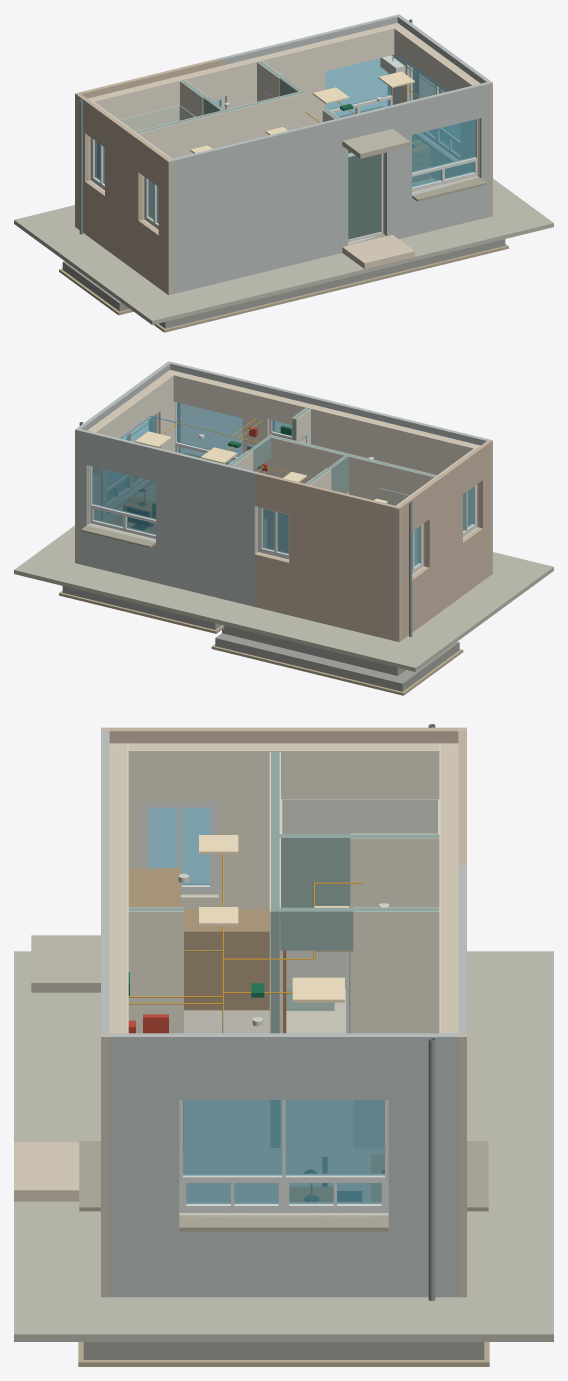
File: sample-1-open.glb
The picture shows the model from 3 angles, top to bottom: view 1: azimuth 30°, elevation 25°; view 2: azimuth 150°, elevation 25°; view 3: azimuth 270°, elevation 25°; orthographic projection. The views are drawn at different scales.
Visible parts, largest first — view 1: 외벽 마감 (×17), 외부 포장 폭 1000, 실내 벽 마감 (×8), 창문 (×3), 칸막이 마감 (×3), 창호 프레임 (×4), 출입문, 줄기초 800×300, 출입구 단차, 버림콘크리트 60, 외벽 모서리 마감 (×2), 출입구 캐노피 (+8 smaller); view 2: 외벽 마감 (×17), 외부 포장 폭 1000, 실내 벽 마감 (×7), 창문 (×4), 칸막이 마감 (×2), PIT 매트 기초, 창호 프레임 (×5), 외벽 모서리 마감 (×2), PIT 벽 200, PIT 버림콘크리트, 줄기초 800×300, 외벽 (+7 smaller); view 3: 외부 포장 폭 1000, 외벽 마감 (×10), 칸막이 마감 (×3), 창문 (×2), 실내 벽 마감 (×4), 실내 바닥 마감, 창호 프레임 (×2), 외벽 (×4), 택배 보관장 측면, 줄기초 800×300 (×2), 화장실 타일 마감, 외부 창대석 T50×W350 (×3) (+14 smaller).
Boxes of the visible parts, left/top/right/bottom form: 외벽 마감 (×17): left=77, top=17, right=489, bottom=294; 외부 포장 폭 1000: left=14, top=178, right=553, bottom=324; 실내 벽 마감 (×8): left=92, top=25, right=479, bottom=179; 창문 (×3): left=325, top=58, right=475, bottom=187; 칸막이 마감 (×3): left=138, top=62, right=304, bottom=210; 창호 프레임 (×4): left=90, top=66, right=477, bottom=229; 출입문: left=348, top=154, right=380, bottom=239; 줄기초 800×300: left=159, top=239, right=505, bottom=328; 출입구 단차: left=342, top=235, right=414, bottom=268; 버림콘크리트 60: left=154, top=244, right=508, bottom=332; 외벽 모서리 마감 (×2): left=166, top=81, right=492, bottom=295; 출입구 캐노피: left=342, top=128, right=410, bottom=158; 외벽 마감 (×17): left=78, top=364, right=490, bottom=641; 외부 포장 폭 1000: left=14, top=525, right=553, bottom=671; 실내 벽 마감 (×7): left=88, top=372, right=475, bottom=525; 창문 (×4): left=92, top=402, right=288, bottom=553; 칸막이 마감 (×2): left=267, top=409, right=434, bottom=552; PIT 매트 기초: left=215, top=633, right=459, bottom=691; 창호 프레임 (×5): left=90, top=413, right=477, bottom=574; 외벽 모서리 마감 (×2): left=75, top=428, right=401, bottom=642; PIT 벽 200: left=229, top=627, right=389, bottom=673; PIT 버림콘크리트: left=211, top=644, right=463, bottom=695; 줄기초 800×300: left=93, top=593, right=221, bottom=629; 외벽: left=307, top=404, right=477, bottom=447; 외부 포장 폭 1000: left=14, top=951, right=553, bottom=1341; 외벽 마감 (×10): left=101, top=727, right=466, bottom=1297; 칸막이 마감 (×3): left=128, top=838, right=439, bottom=1147; 창문 (×2): left=149, top=808, right=384, bottom=1203; 실내 벽 마감 (×4): left=110, top=750, right=427, bottom=909; 실내 바닥 마감: left=183, top=1010, right=384, bottom=1201; 창호 프레임 (×2): left=140, top=802, right=388, bottom=1212; 외벽 (×4): left=109, top=743, right=458, bottom=971; 택배 보관장 측면: left=184, top=909, right=269, bottom=1010; 줄기초 800×300 (×2): left=83, top=1342, right=484, bottom=1359; 화장실 타일 마감: left=282, top=799, right=437, bottom=988; 외부 창대석 T50×W350 (×3): left=79, top=1141, right=488, bottom=1231.
Bounding box in the file's own units: 10.4 × 4.46 × 6.2.
